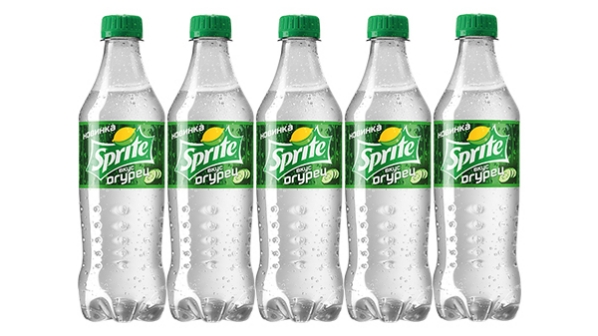sprite: (91, 134, 148, 171), (268, 134, 325, 171), (357, 134, 414, 171), (446, 134, 502, 170), (180, 134, 235, 170)
